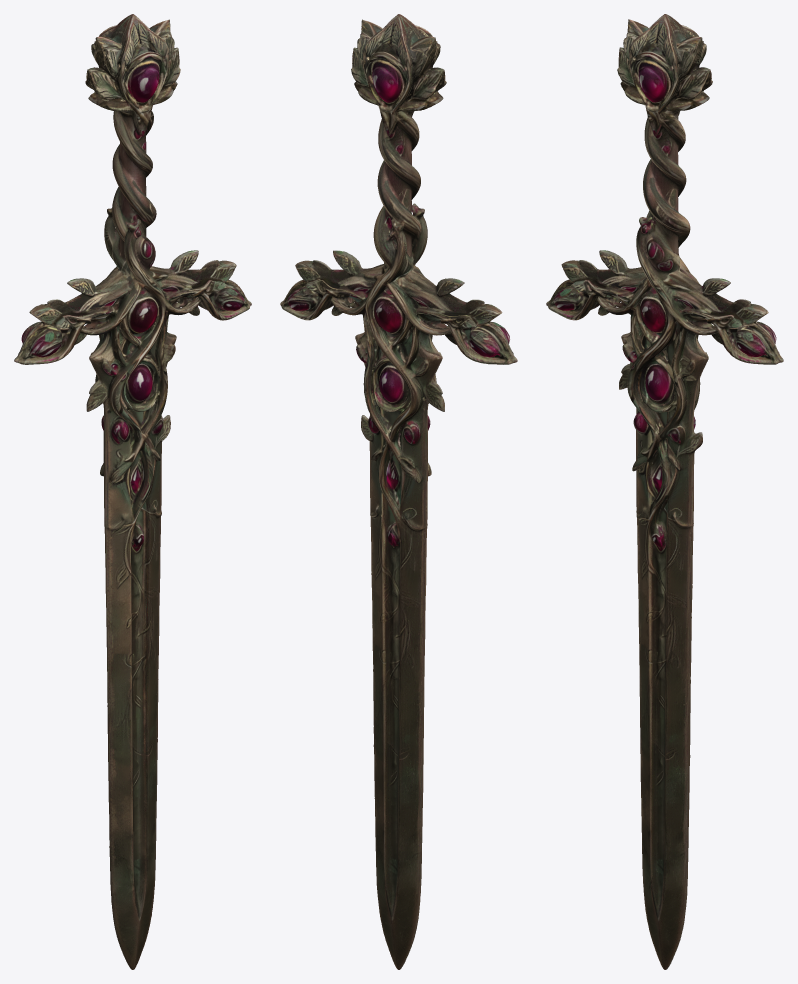
The model's file is sword.glb.
3 views of the same model, side by side, from view 1: azimuth 30°, elevation 25°; view 2: azimuth 150°, elevation 25°; view 3: azimuth 330°, elevation 25° (orthographic).
Bounding box in the file's own units: 0.4923 × 1.9 × 0.1354.
Materials: 1 (1 with a texture image).
